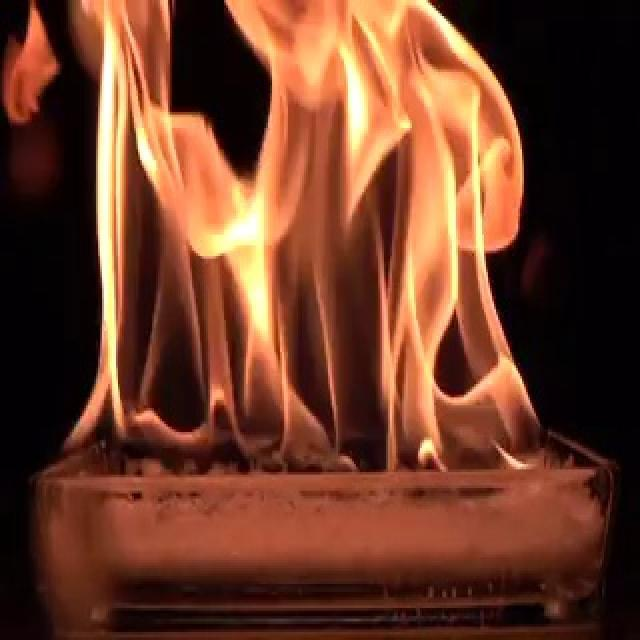Fire: (58, 1, 545, 473)
